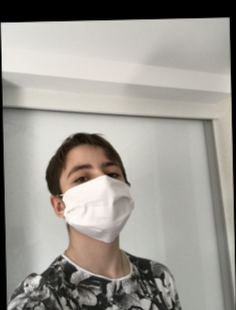with_mask: (59, 156, 133, 246)
